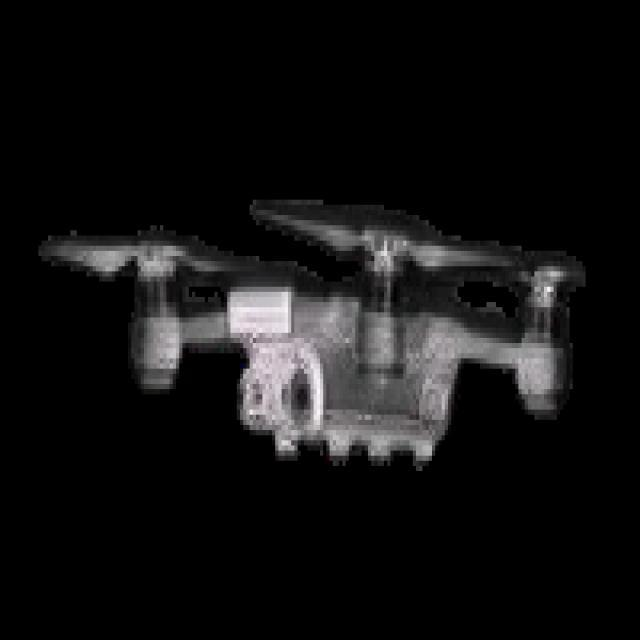drone: (41, 195, 584, 470)
